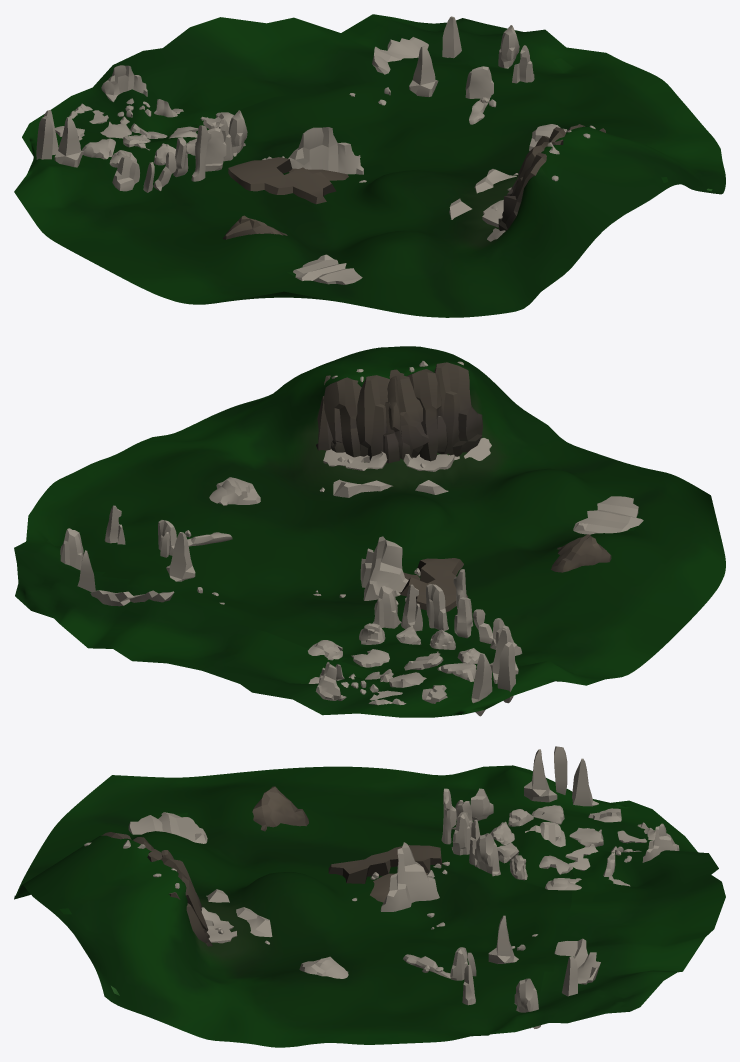
The picture shows the model from 3 angles, top to bottom: view 1: azimuth 30°, elevation 25°; view 2: azimuth 150°, elevation 25°; view 3: azimuth 270°, elevation 25°; orthographic projection.
Visible parts, largest first — view 1: Plane, rock.046, rock.005, rock.040, rock.061, rock.044, rock.026, rock.043, rock.004, rock.029, rock.010, rock.015 (+9 smaller); view 2: Plane, rock.040, rock.005, rock.046, rock.061, rock.047, rock.062, rock.074, rock.043, rock.008, rock.044, rock.069 (+8 smaller); view 3: Plane, rock.046, rock.005, rock.040, rock.047, rock.061, rock.044, rock.004, rock.074, rock.008, rock.018, rock.043 (+10 smaller).
Boxes of the visible parts, bbox=[...] form: Plane: bbox=[14, 14, 725, 317]; rock.046: bbox=[228, 157, 348, 204]; rock.005: bbox=[288, 127, 363, 174]; rock.040: bbox=[498, 124, 605, 230]; rock.061: bbox=[293, 254, 362, 284]; rock.044: bbox=[372, 37, 428, 74]; rock.026: bbox=[101, 65, 147, 101]; rock.043: bbox=[409, 46, 438, 96]; rock.004: bbox=[54, 117, 83, 167]; rock.029: bbox=[465, 66, 493, 98]; rock.010: bbox=[205, 128, 226, 171]; rock.015: bbox=[112, 155, 139, 191]; Plane: bbox=[14, 346, 725, 717]; rock.040: bbox=[316, 362, 482, 463]; rock.005: bbox=[360, 536, 408, 600]; rock.046: bbox=[399, 558, 467, 611]; rock.061: bbox=[573, 496, 643, 534]; rock.047: bbox=[551, 534, 611, 572]; rock.062: bbox=[209, 477, 260, 505]; rock.074: bbox=[333, 454, 459, 497]; rock.043: bbox=[166, 532, 195, 581]; rock.008: bbox=[372, 585, 401, 628]; rock.044: bbox=[90, 590, 174, 606]; rock.069: bbox=[323, 449, 387, 470]; Plane: bbox=[14, 765, 725, 1047]; rock.046: bbox=[328, 845, 442, 902]; rock.005: bbox=[380, 842, 439, 911]; rock.040: bbox=[101, 832, 212, 946]; rock.047: bbox=[252, 786, 308, 831]; rock.061: bbox=[128, 812, 207, 843]; rock.044: bbox=[554, 938, 600, 984]; rock.004: bbox=[524, 749, 557, 802]; rock.074: bbox=[206, 889, 272, 937]; rock.008: bbox=[474, 833, 500, 876]; rock.018: bbox=[572, 758, 598, 806]; rock.043: bbox=[488, 915, 518, 963].
Size of the model in its own units: 15622 by 3421 by 15804.
